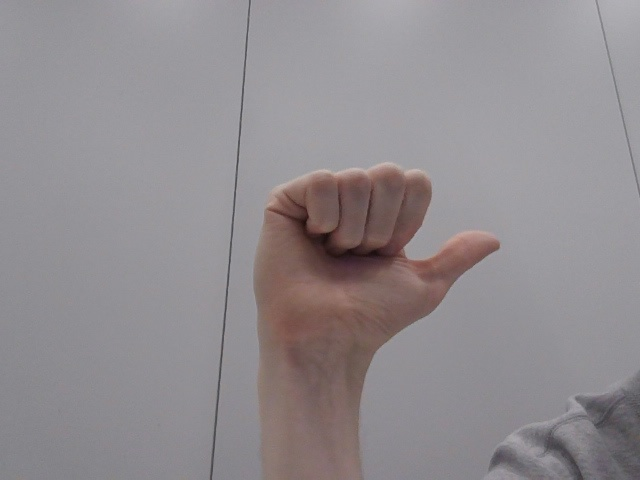left: (220, 153, 526, 371)
